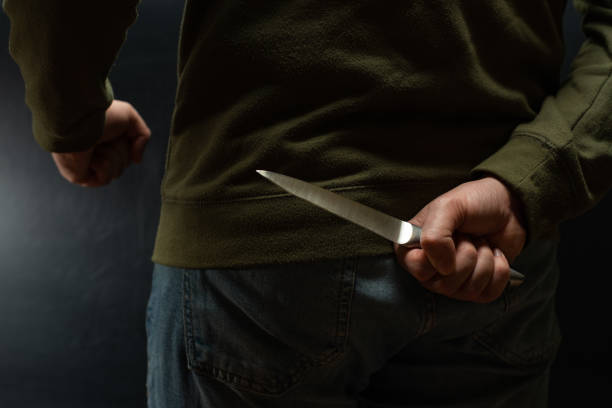knife: (257, 165, 530, 294)
